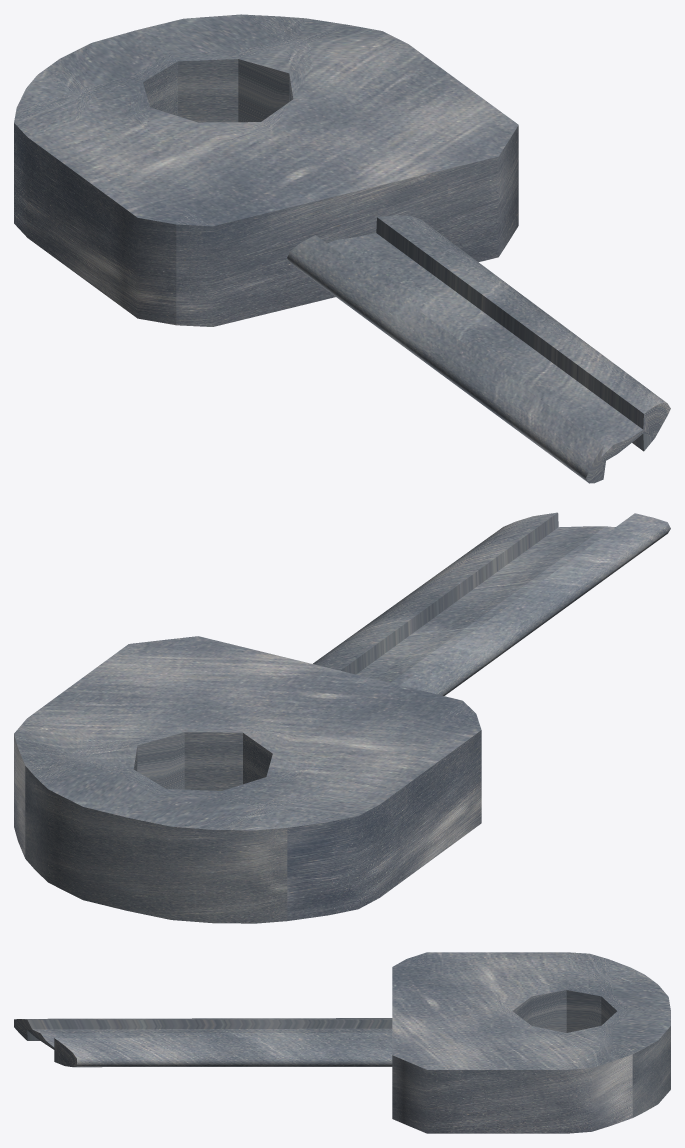
File: Principal_Key_Textured.fbx
The picture shows the model from 3 angles, top to bottom: view 1: azimuth 30°, elevation 25°; view 2: azimuth 150°, elevation 25°; view 3: azimuth 270°, elevation 25°; orthographic projection. The views are drawn at different scales.
Visible parts, largest first — view 1: pCube1, pCylinder1; view 2: pCube1, pCylinder1; view 3: pCube1, pCylinder1.
Part boxes in pixels (x1,y1,x2,y2): pCube1: (14, 14, 518, 326); pCylinder1: (287, 215, 670, 483); pCube1: (14, 636, 481, 923); pCylinder1: (313, 512, 670, 695); pCube1: (392, 952, 670, 1133); pCylinder1: (14, 1018, 392, 1067).
Bounding box in the file's own units: 0.0503 × 0.0127 × 0.1187.
Materials: 1 (1 with a texture image).
